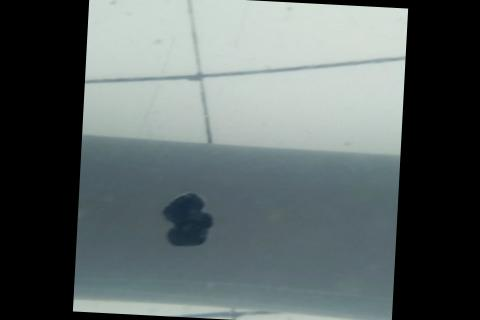kebocoran: (160, 191, 215, 250)
